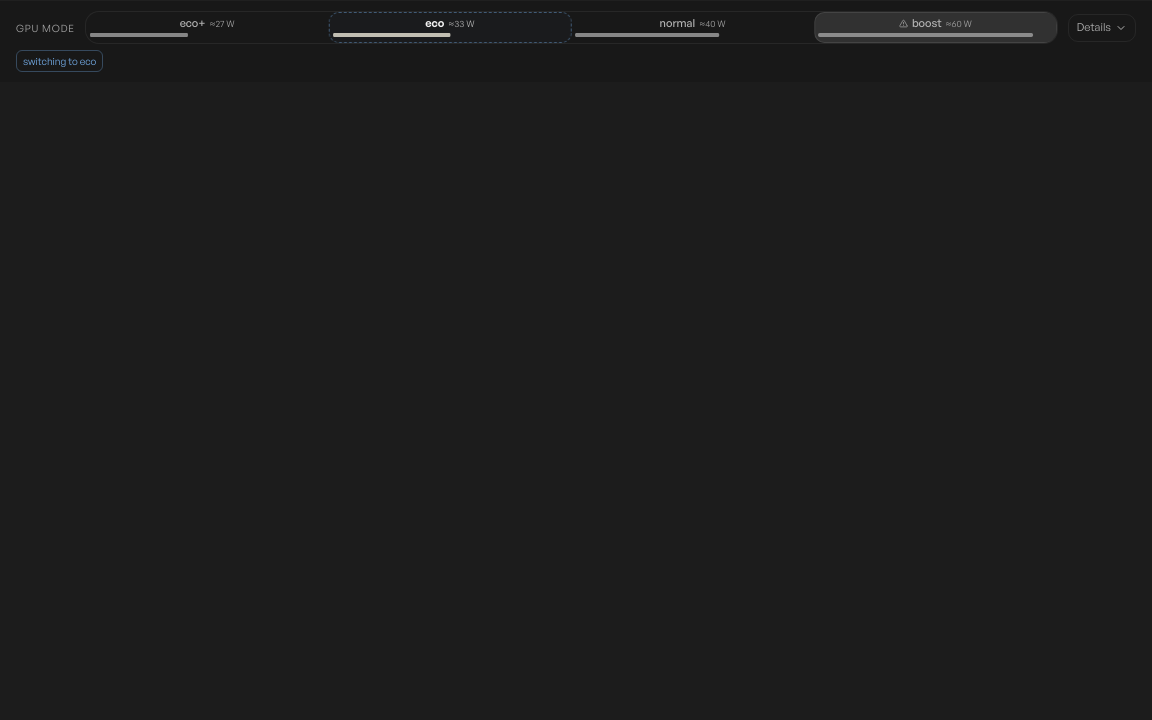
it: DeviceModeStrip › shows the hand-over for a desired state set elsewhere (no click here)
This screenshot has width=1152, height=720.
Click the button with test id "device-toggle-detail" at x=1102, y=28, box x1=1068 y1=14 x2=1136 y2=42
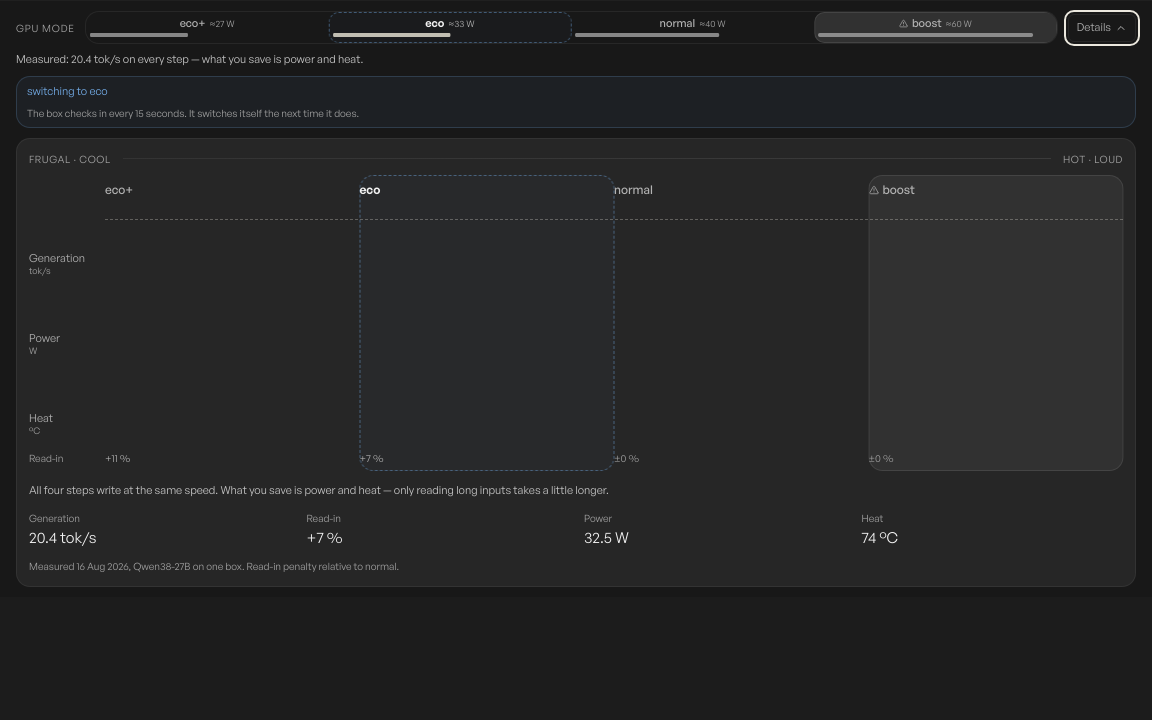
Expected: the element with test id "compact-target-outline" is shown, x1=328 y1=12 x2=571 y2=43
Result: the element with test id "device-detail" is shown
Result: the element with test id "device-pending" is shown at x1=16 y1=76 x2=1136 y2=128
